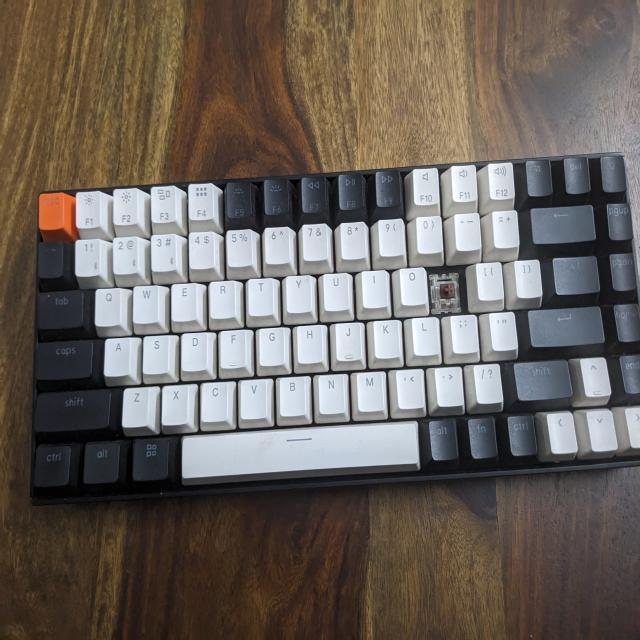key-switch: (432, 274, 461, 310)
